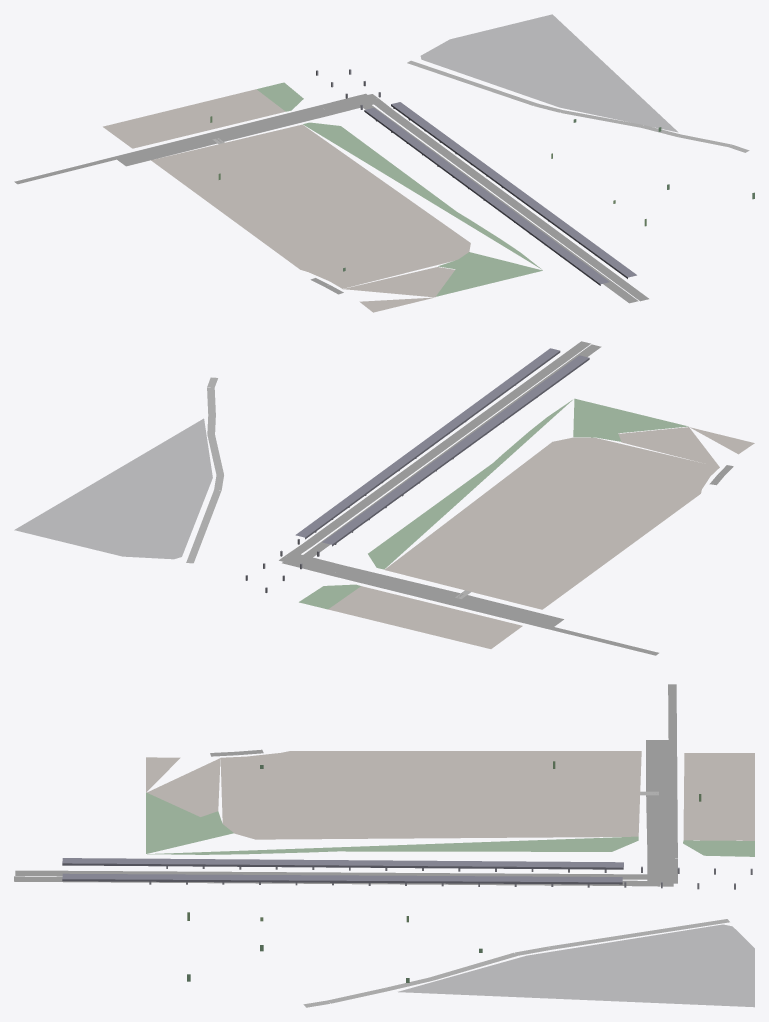
The picture shows the model from 3 angles, top to bottom: view 1: azimuth 30°, elevation 25°; view 2: azimuth 150°, elevation 25°; view 3: azimuth 270°, elevation 25°; orthographic projection. The views are drawn at different scales.
Bounding box in the file's own units: 642 × 12.57 × 608.
